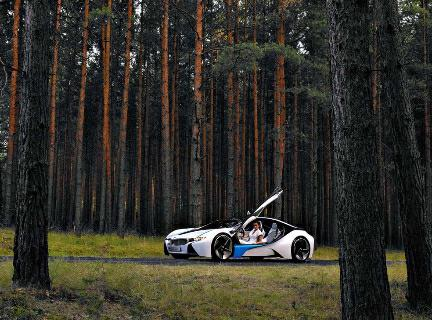宝马-EfficientDynamics: (158, 213, 319, 267)
